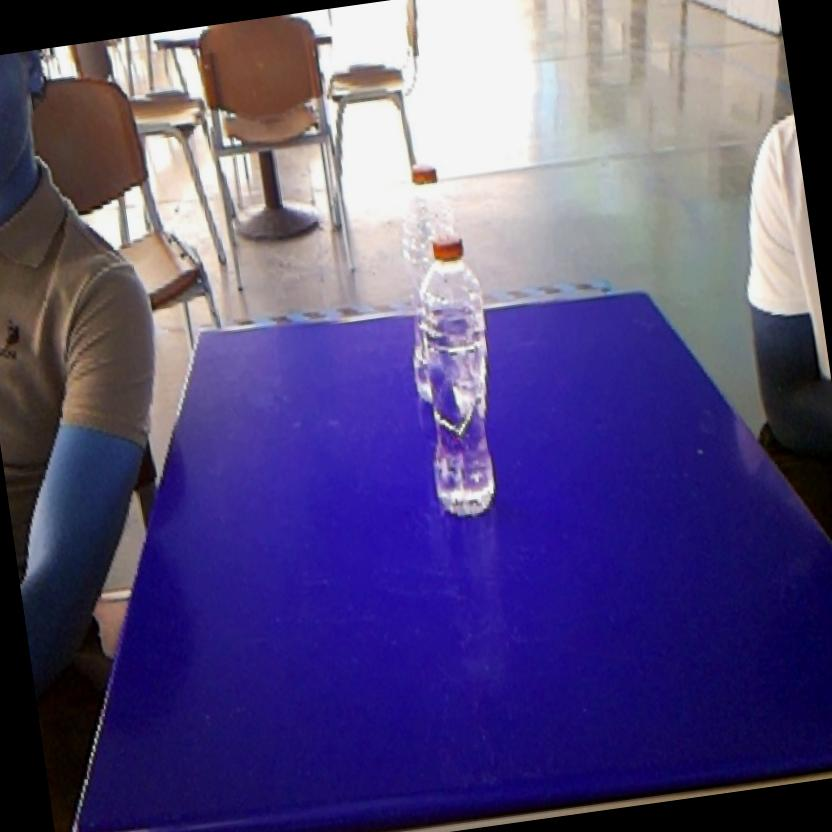no_label: (392, 229, 521, 526), (382, 148, 470, 240)
